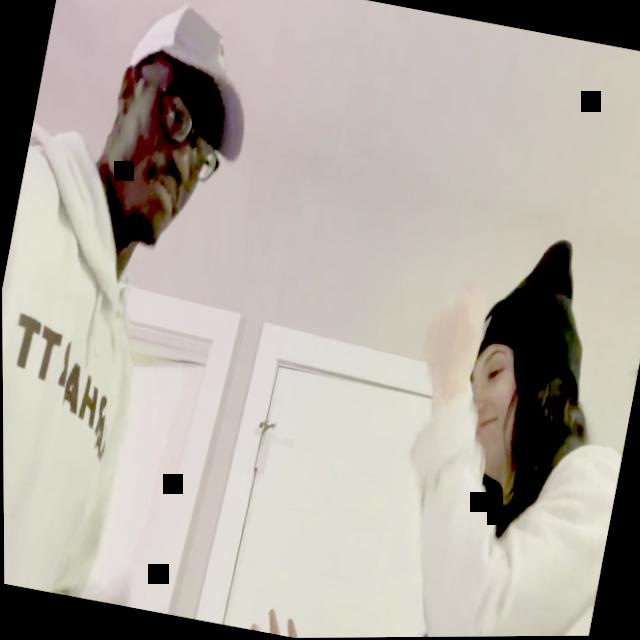Rock: (413, 280, 491, 403)
